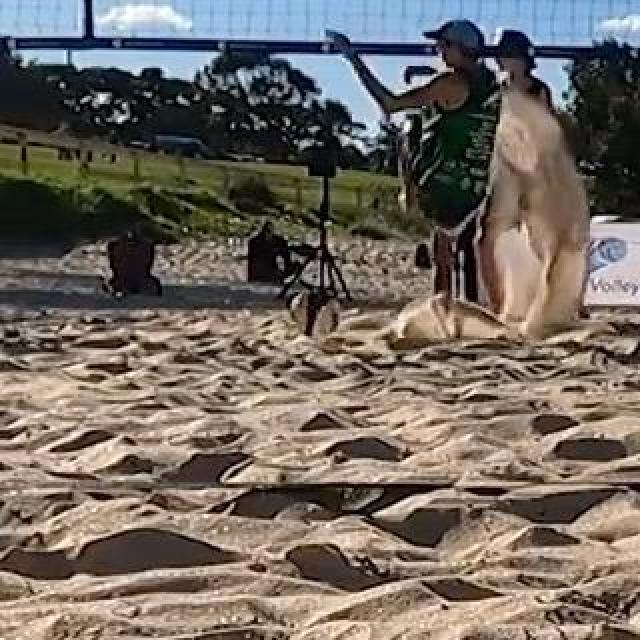volleyball: (289, 288, 341, 338)
